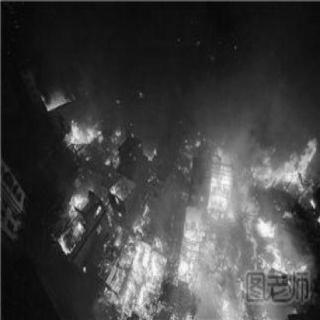Fire: (44, 82, 318, 316)
